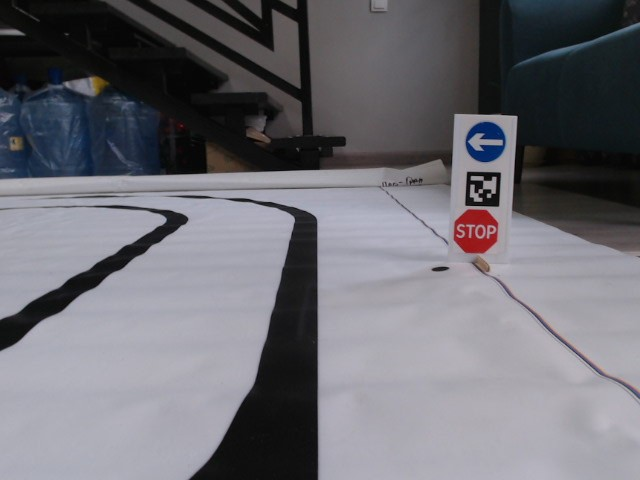Stop: (453, 208, 501, 254)
